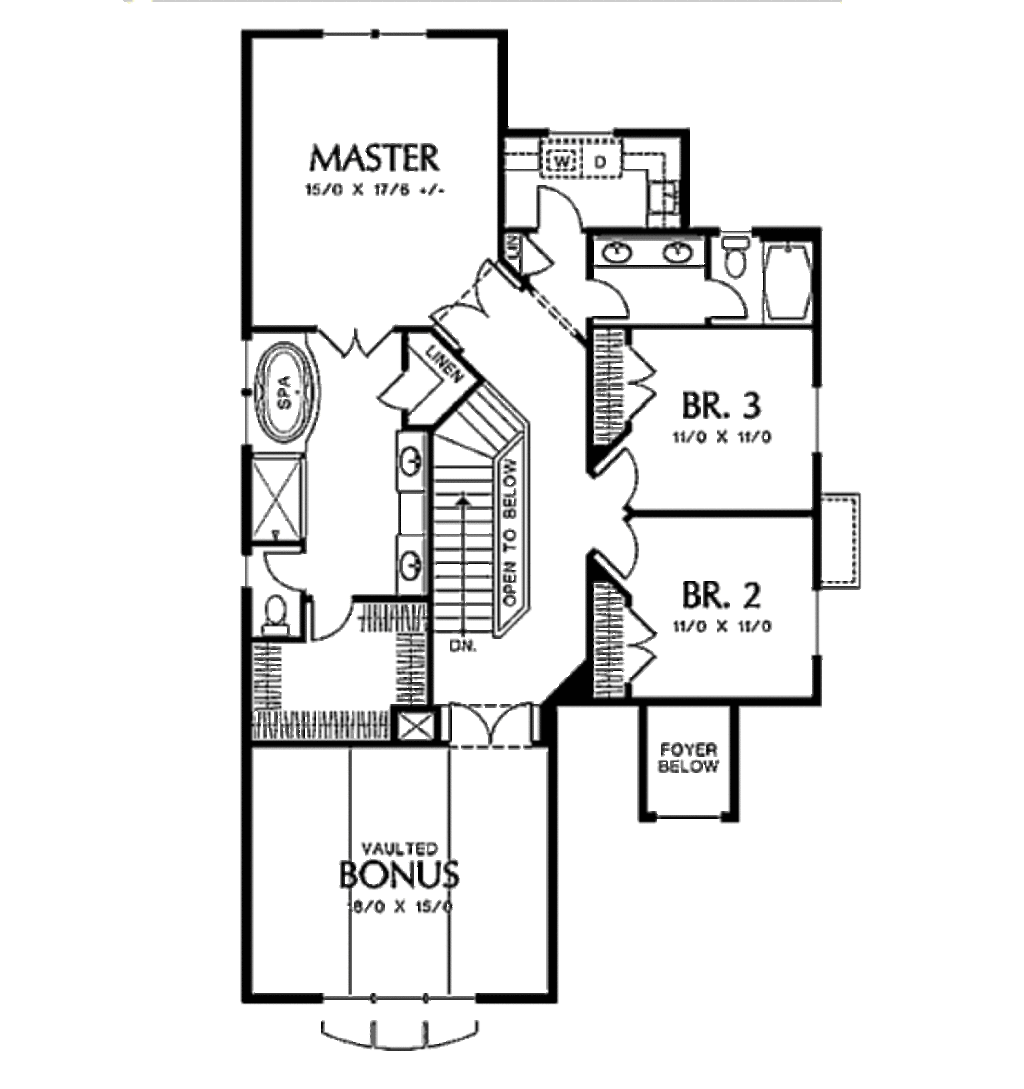door: (432, 250, 525, 358), (444, 702, 546, 750), (608, 599, 663, 684), (581, 446, 651, 506), (619, 346, 668, 428), (590, 509, 642, 578), (697, 273, 752, 334), (314, 317, 393, 358), (519, 185, 585, 233), (302, 592, 354, 641), (259, 551, 317, 594), (585, 277, 632, 319)
large_sink: (705, 221, 764, 278), (251, 594, 268, 623)
small_sink: (400, 441, 434, 609), (597, 229, 702, 270)
stairs: (439, 360, 530, 650)
tub: (236, 328, 329, 458), (768, 233, 829, 324)
window: (324, 24, 430, 51), (807, 389, 836, 453)
